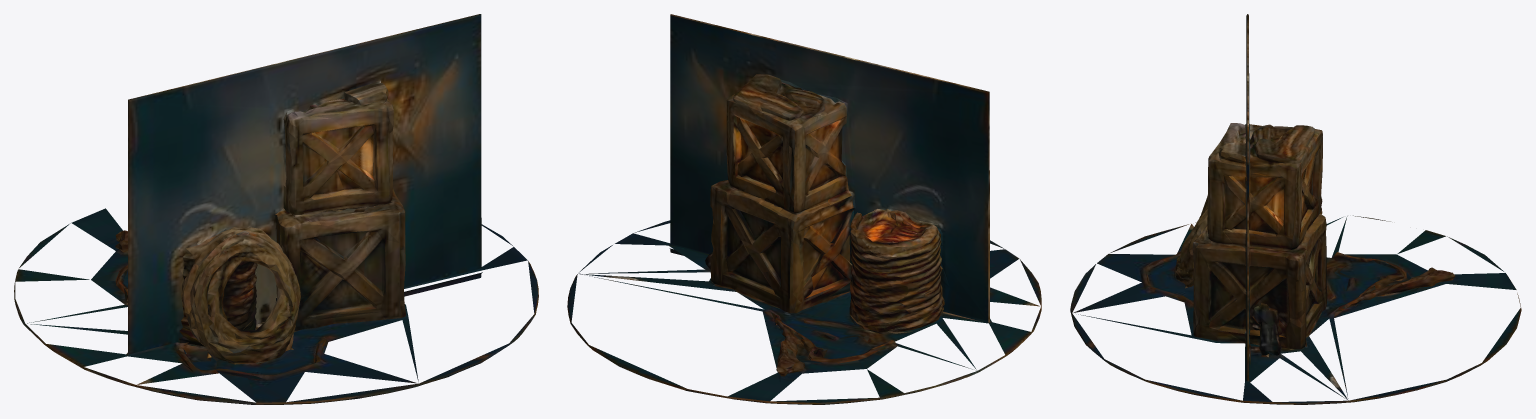
The model's file is env_crate_stack_01.glb.
The picture shows the model from 3 angles, left to right: view 1: azimuth 30°, elevation 25°; view 2: azimuth 150°, elevation 25°; view 3: azimuth 270°, elevation 25°; orthographic projection. The views are drawn at different scales.
Visible parts, largest first — view 1: e9665502-d061-4ba9-b9e5-e07bf917cfe0_texturing.obj; view 2: e9665502-d061-4ba9-b9e5-e07bf917cfe0_texturing.obj; view 3: e9665502-d061-4ba9-b9e5-e07bf917cfe0_texturing.obj.
Part boxes in pixels (box(x1,y1,x2,y2)): e9665502-d061-4ba9-b9e5-e07bf917cfe0_texturing.obj: box(14, 14, 538, 404); e9665502-d061-4ba9-b9e5-e07bf917cfe0_texturing.obj: box(567, 14, 1041, 404); e9665502-d061-4ba9-b9e5-e07bf917cfe0_texturing.obj: box(1070, 14, 1521, 404).
Size of the model in its own units: 1.99 by 1.11 by 1.99.
Materials: 1 (1 with a texture image).
